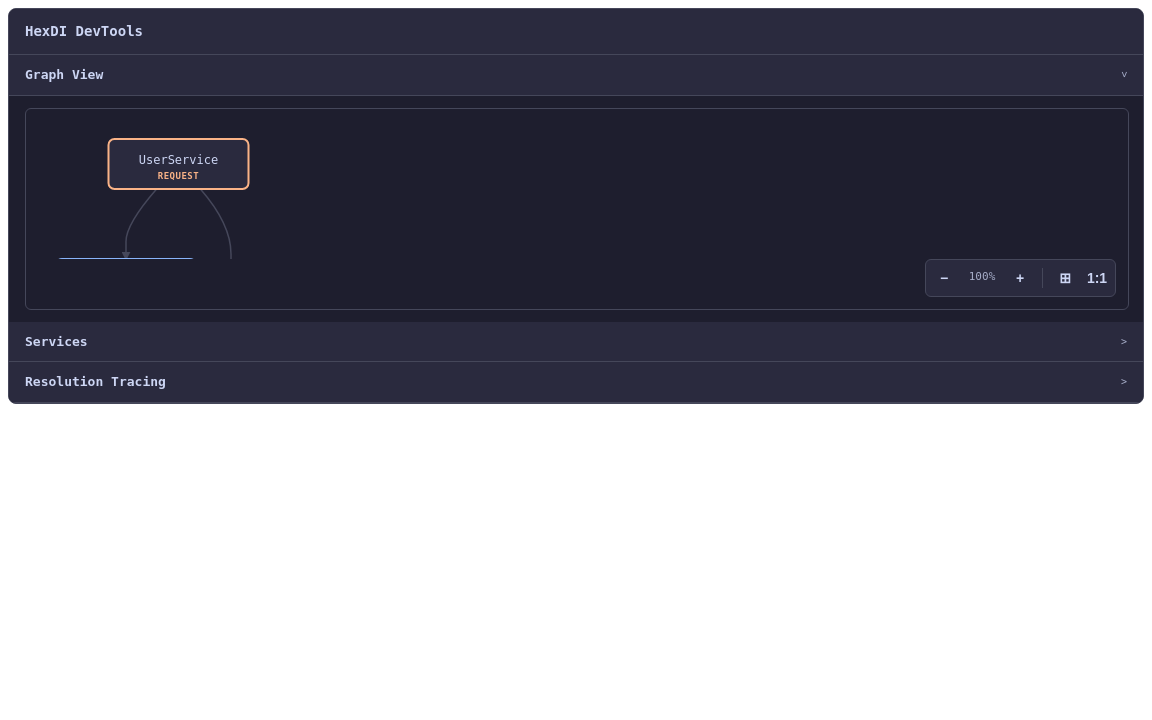
Scenario: DevToolsPanel › visual differentiation by lifetime shows correct indicators
// Check Services section shows the services
Click the button with test id "services-header". click: {"x": 56, "y": 341}
box: [9,322,1143,362]
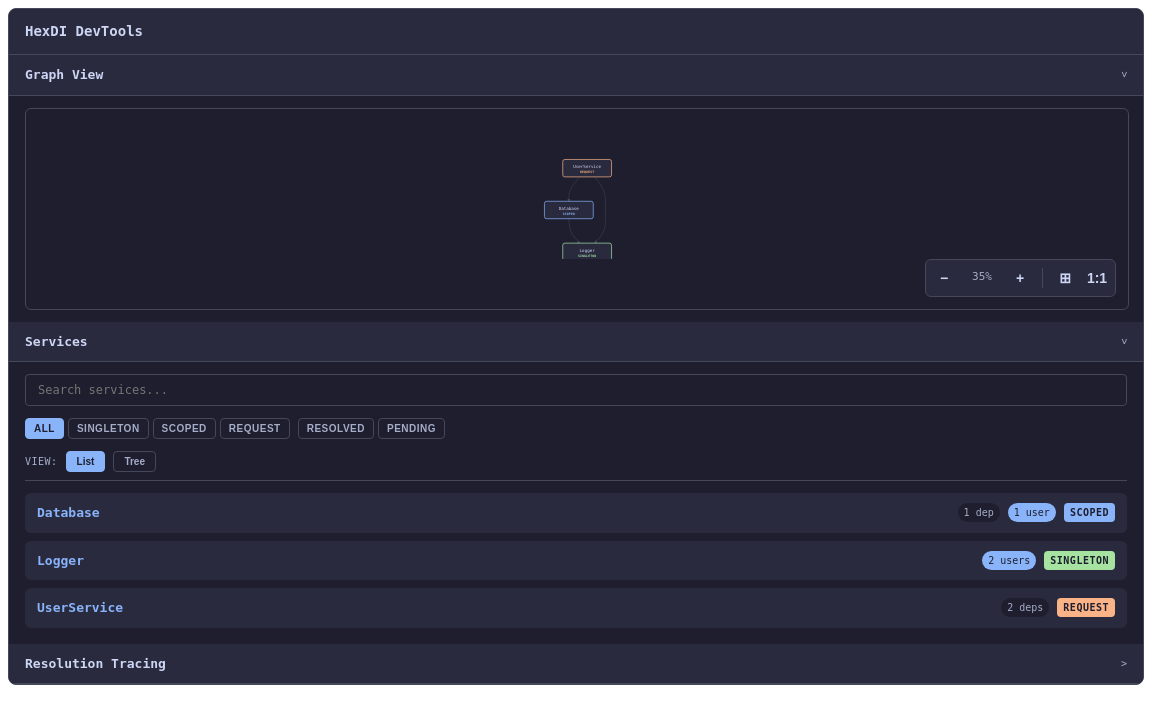
Check: the element with test id "enhanced-services-view" is shown, box [25,374,1127,632]
Check: the element with test id "enhanced-service-item-Logger" is shown, box [25,540,1127,580]
Check: the element with test id "enhanced-service-item-Database" is shown, box [25,493,1127,532]
